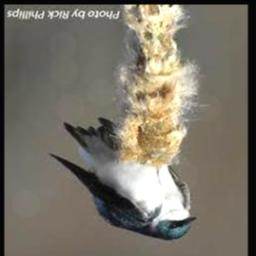Swallow: (49, 118, 200, 241)
